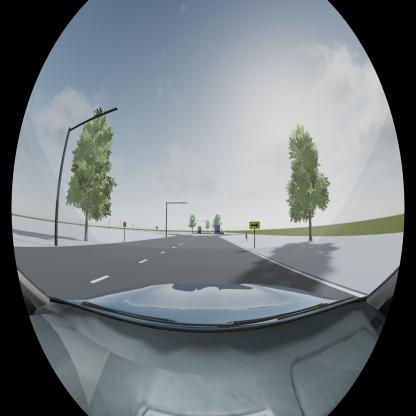Red Light: (179, 202, 183, 204)
Speed Limit 30: (123, 221, 126, 227)
